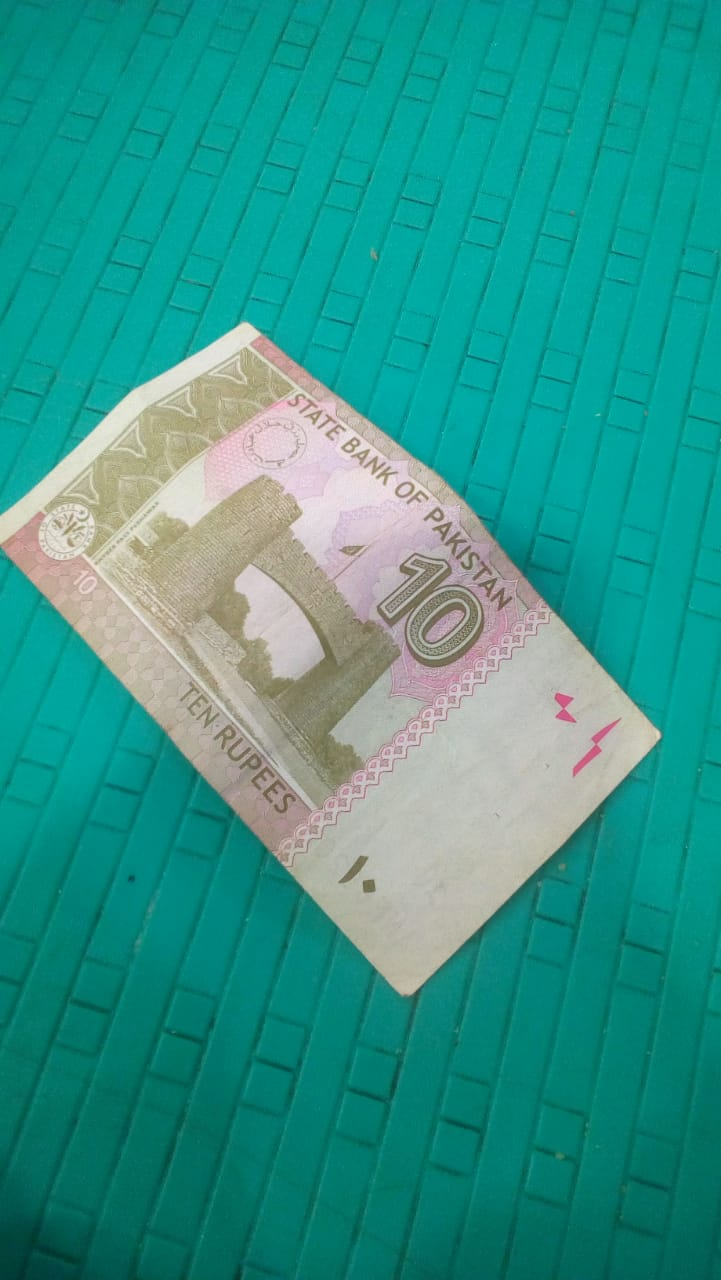10 rupee: (0, 310, 649, 1013)
